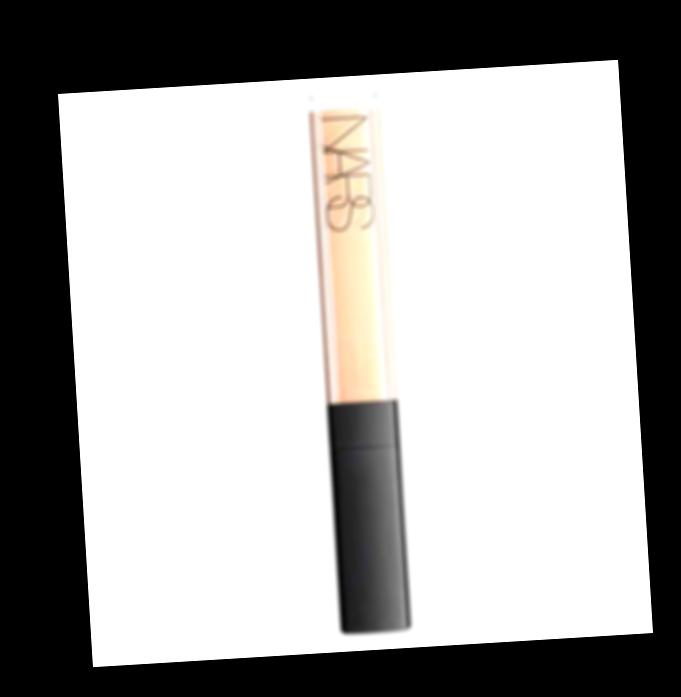cosmetic: (304, 88, 410, 633)
